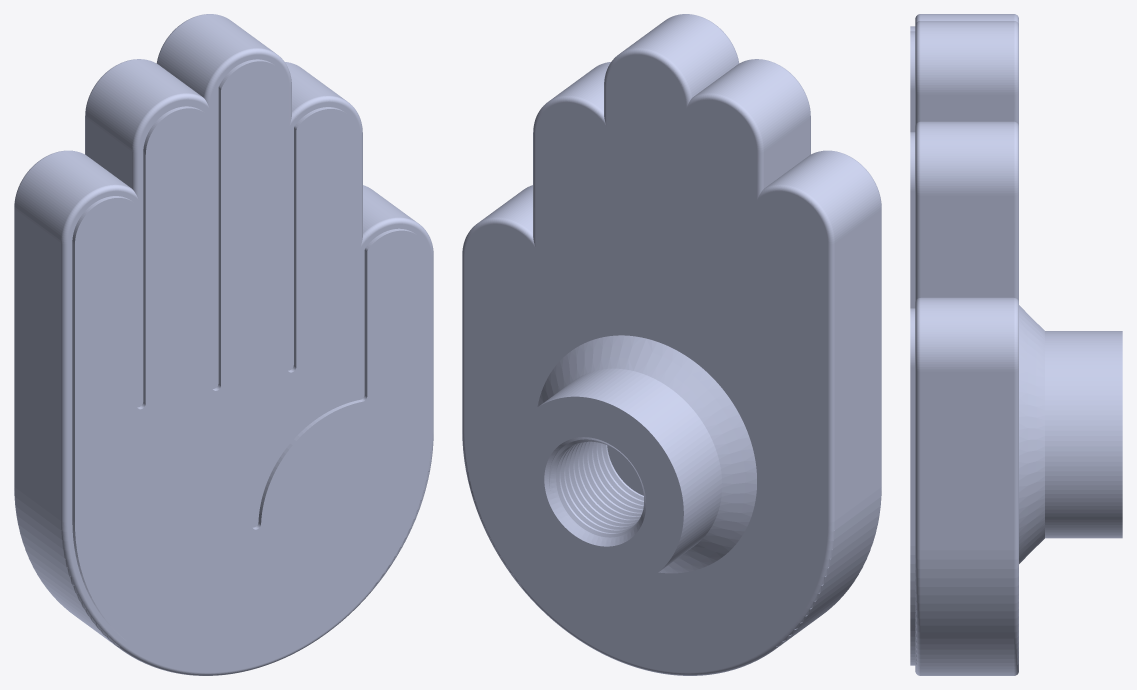
File: Palm.dae
3 views of the same model, side by side, from view 1: azimuth 30°, elevation 25°; view 2: azimuth 150°, elevation 25°; view 3: azimuth 270°, elevation 25° (orthographic).
Visible parts, largest first — view 1: node0; view 2: node0; view 3: node0.
Part boxes in pixels (x1=…): node0: x1=14, y1=14, x2=433, y2=675; node0: x1=462, y1=14, x2=881, y2=675; node0: x1=910, y1=14, x2=1122, y2=675.
Size of the model in its own units: 0.084 by 0.041 by 0.134.
